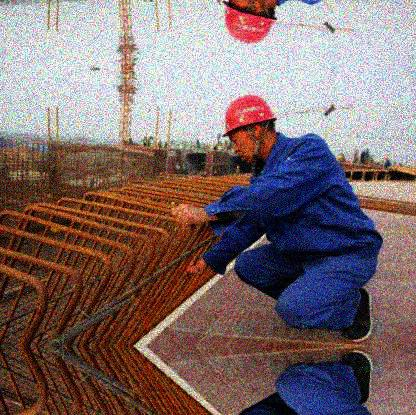helmet: (221, 95, 280, 174), (219, 1, 278, 46)
